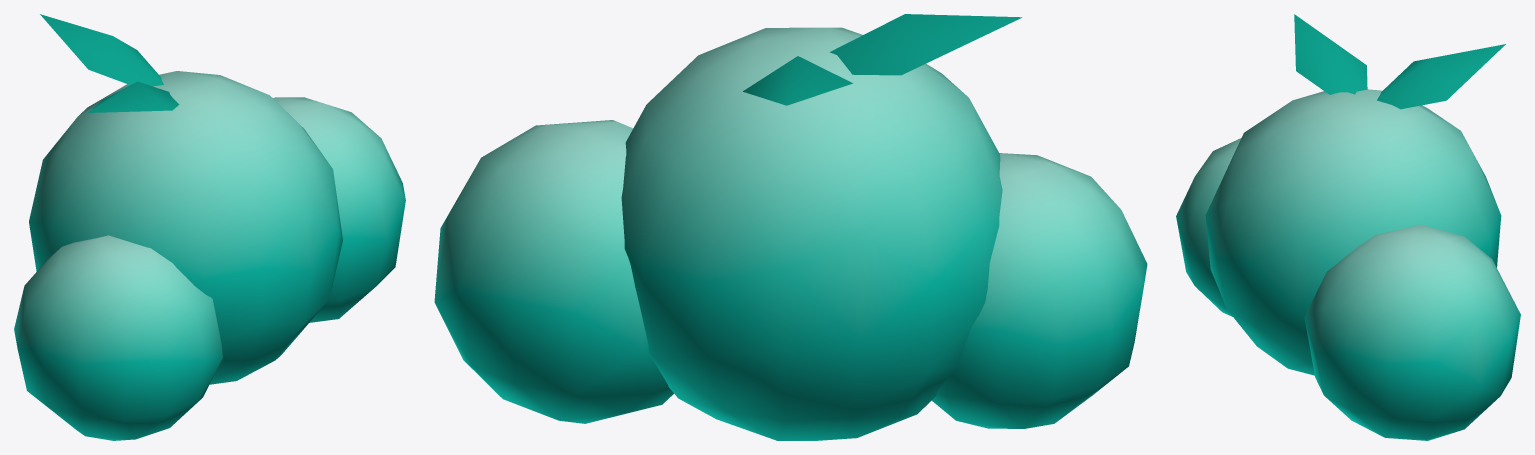
Rendered from Leviathan_Berry.glb.
3 renders of one model, left to right at view 1: azimuth 30°, elevation 25°; view 2: azimuth 150°, elevation 25°; view 3: azimuth 270°, elevation 25°, orthographic. The views are drawn at different scales.
Visible parts, largest first — view 1: Leviathan_Berry; view 2: Leviathan_Berry; view 3: Leviathan_Berry.
Part boxes in pixels (left/top/right/bottom): Leviathan_Berry: left=14, top=14, right=405, bottom=440; Leviathan_Berry: left=434, top=14, right=1147, bottom=440; Leviathan_Berry: left=1176, top=14, right=1520, bottom=440.
Bounding box in the file's own units: 0.9501 × 0.66 × 0.6984.
